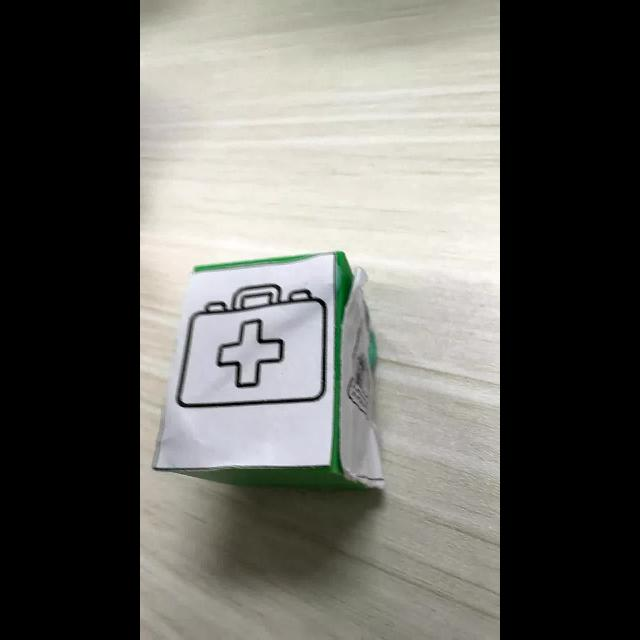Medkit: (176, 284, 329, 408)
